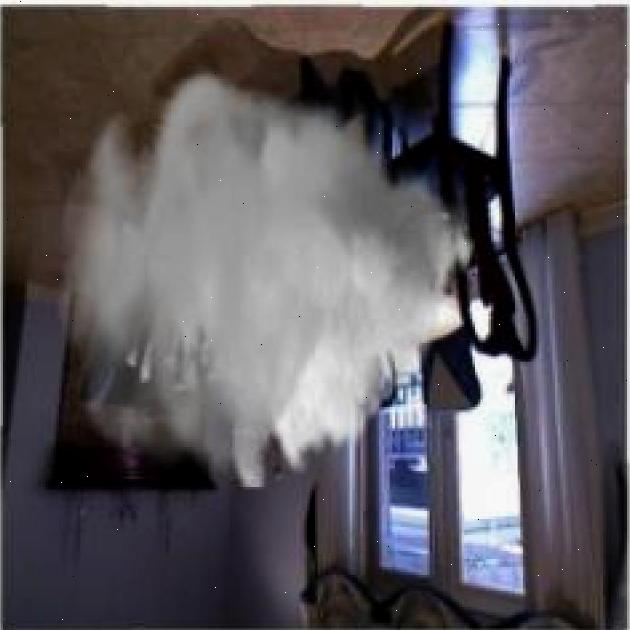smoke: (59, 65, 478, 489)
